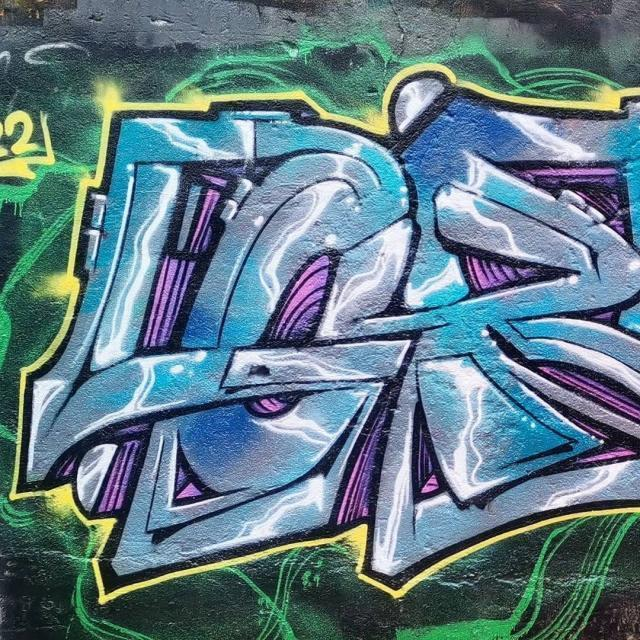nonspitting: (13, 62, 640, 603)
